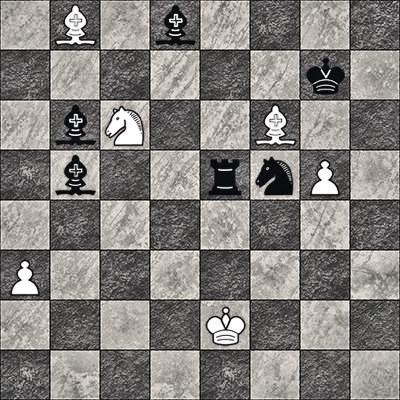black-bishop: (150, 0, 200, 50), (50, 100, 100, 150), (50, 150, 100, 200)
black-king: (300, 50, 350, 100)
black-knight: (250, 150, 300, 200)
black-rook: (200, 150, 250, 200)
white-bishop: (50, 0, 100, 50), (250, 100, 300, 150)
white-king: (200, 300, 250, 350)
white-knight: (100, 100, 150, 150)
white-pawn: (300, 150, 350, 200), (0, 250, 50, 300)
